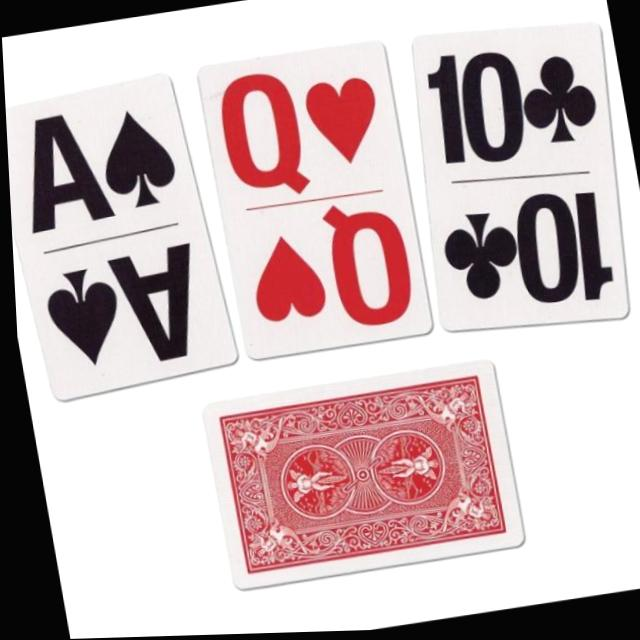Card-10: (415, 25, 626, 329)
Card-A: (4, 76, 231, 397)
Card-Q: (198, 44, 428, 355)
